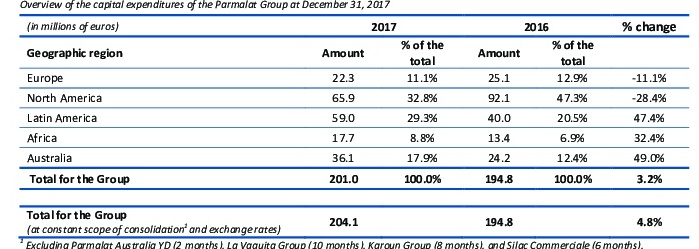table: (0, 0, 699, 249)
